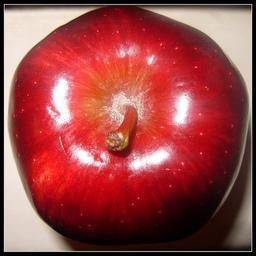apple: (8, 5, 251, 247)
